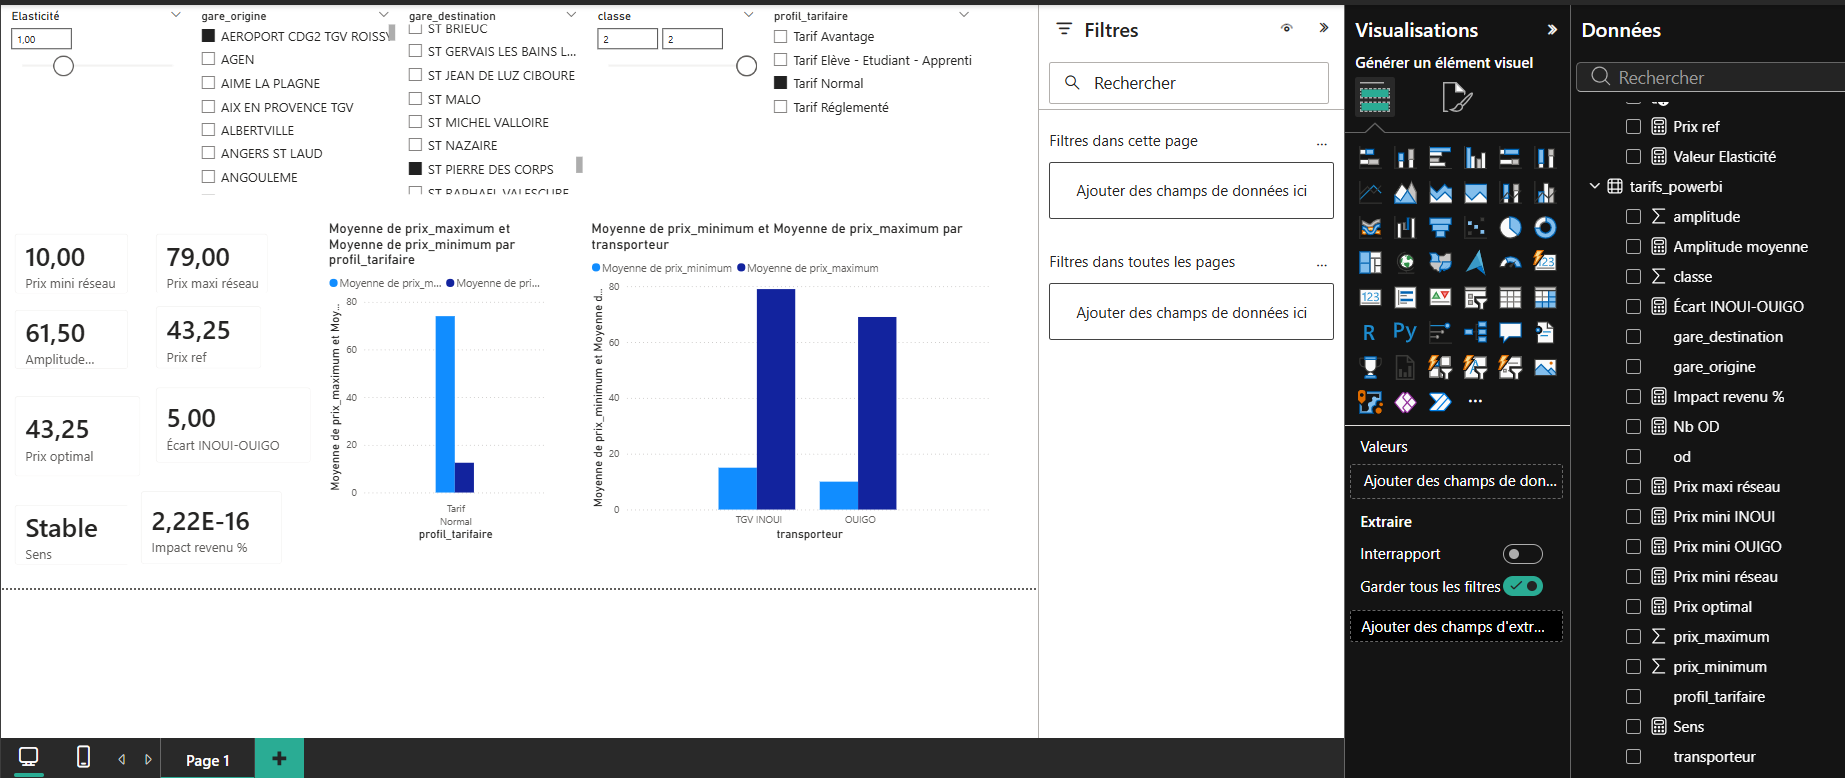

The page's visual inventory and layout, read from the dashboard file:
{"tool":"powerbi","page":{"name":"Page 1","canvas":[1280,720],"ordinal":0},"visuals":[{"type":"slicer","fields":{"Values":["Elasticité.Elasticité"]},"box":[0,0,234.6,227.8],"z":0},{"type":"slicer","fields":{"Values":["tarifs_powerbi.gare_origine"]},"box":[234.6,0,256.6,238.8],"z":1},{"type":"slicer","fields":{"Values":["tarifs_powerbi.classe"]},"box":[723.2,0,218.2,238.8],"z":2},{"type":"slicer","fields":{"Values":["tarifs_powerbi.gare_destination"]},"box":[491.3,0,231.9,238.8],"z":3},{"type":"slicer","fields":{"Values":["tarifs_powerbi.profil_tarifaire"]},"box":[941.3,0,266.2,238.8],"z":4},{"type":"cardVisual","fields":{"Data":["tarifs_powerbi.Prix mini réseau"]},"box":[0,264.8,174.3,108.4],"z":5},{"type":"cardVisual","fields":{"Data":["tarifs_powerbi.Prix maxi réseau"]},"box":[174.3,264.8,172.9,108.4],"z":6},{"type":"cardVisual","fields":{"Data":["tarifs_powerbi.Amplitude moyenne"]},"box":[0,359.5,174.3,107],"z":7},{"type":"cardVisual","fields":{"Data":["tarifs_powerbi.Écart INOUI-OUIGO"]},"box":[174.3,455.6,225,127.6],"z":8},{"type":"cardVisual","fields":{"Data":["Elasticité.Prix ref"]},"box":[174.3,355.4,164.7,111.1],"z":9},{"type":"cardVisual","fields":{"Data":["tarifs_powerbi.Prix optimal"]},"box":[0,466.6,189.4,133.1],"z":10},{"type":"cardVisual","fields":{"Data":["tarifs_powerbi.Sens"]},"box":[0,599.7,185.2,108.4],"z":11},{"type":"cardVisual","fields":{"Data":["tarifs_powerbi.Impact revenu %"]},"box":[156.4,583.2,208.6,124.9],"z":12},{"type":"clusteredColumnChart","fields":{"Category":["tarifs_powerbi.profil_tarifaire"],"Y":["Avg(tarifs_powerbi.prix_maximum)","Avg(tarifs_powerbi.prix_minimum)"]},"box":[399.5,265.3,279.2,401.1],"z":13},{"type":"clusteredColumnChart","fields":{"Category":["tarifs_powerbi.transporteur"],"Y":["Avg(tarifs_powerbi.prix_minimum)","Avg(tarifs_powerbi.prix_maximum)"]},"box":[723.5,265.3,504.4,401.1],"z":14}]}

Visuals, with their boxes on the page's 1280x720 design canvas (x1, y1, x2, y2). These are canvas units, not pixel positions in the 1845x778 screenshot, which may show the page scaled, cropped or inside an application window:
slicer - Elasticité.Elasticité: (left=0, top=0, right=235, bottom=228)
slicer - tarifs_powerbi.gare_origine: (left=235, top=0, right=491, bottom=239)
slicer - tarifs_powerbi.classe: (left=723, top=0, right=941, bottom=239)
slicer - tarifs_powerbi.gare_destination: (left=491, top=0, right=723, bottom=239)
slicer - tarifs_powerbi.profil_tarifaire: (left=941, top=0, right=1208, bottom=239)
cardVisual - tarifs_powerbi.Prix mini réseau: (left=0, top=265, right=174, bottom=373)
cardVisual - tarifs_powerbi.Prix maxi réseau: (left=174, top=265, right=347, bottom=373)
cardVisual - tarifs_powerbi.Amplitude moyenne: (left=0, top=360, right=174, bottom=466)
cardVisual - tarifs_powerbi.Écart INOUI-OUIGO: (left=174, top=456, right=399, bottom=583)
cardVisual - Elasticité.Prix ref: (left=174, top=355, right=339, bottom=466)
cardVisual - tarifs_powerbi.Prix optimal: (left=0, top=467, right=189, bottom=600)
cardVisual - tarifs_powerbi.Sens: (left=0, top=600, right=185, bottom=708)
cardVisual - tarifs_powerbi.Impact revenu %: (left=156, top=583, right=365, bottom=708)
clusteredColumnChart - tarifs_powerbi.profil_tarifaire x Avg(tarifs_powerbi.prix_maximum): (left=400, top=265, right=679, bottom=666)
clusteredColumnChart - tarifs_powerbi.transporteur x Avg(tarifs_powerbi.prix_minimum): (left=724, top=265, right=1228, bottom=666)
